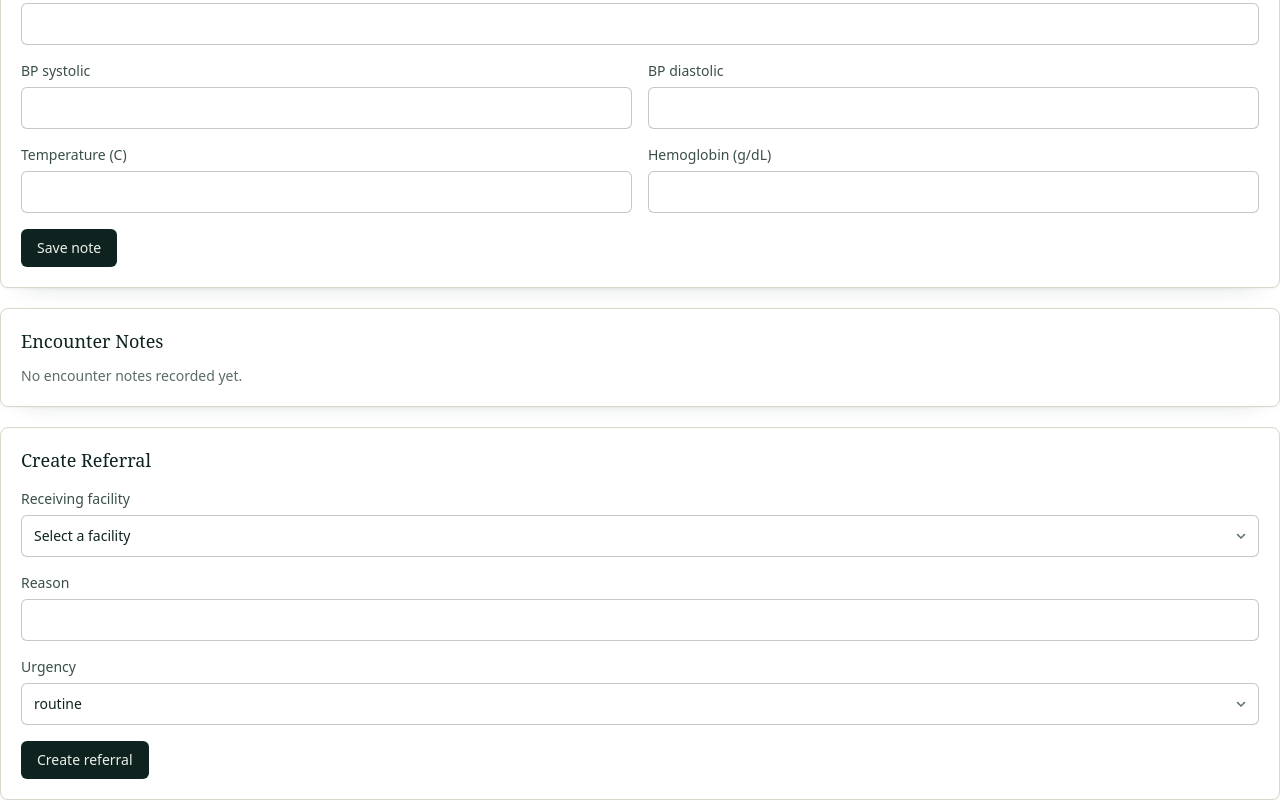
ClinicianEpisodeDetailPage › creates a referral with the clinician facility as fromFacilityId and shows the created status
The width and height of the screenshot is (1280, 800).
(page scrolled)
Select "District Referral Hospital" in the dropdown labelled "Receiving facility" at (640, 536), box [21,515,1259,557]
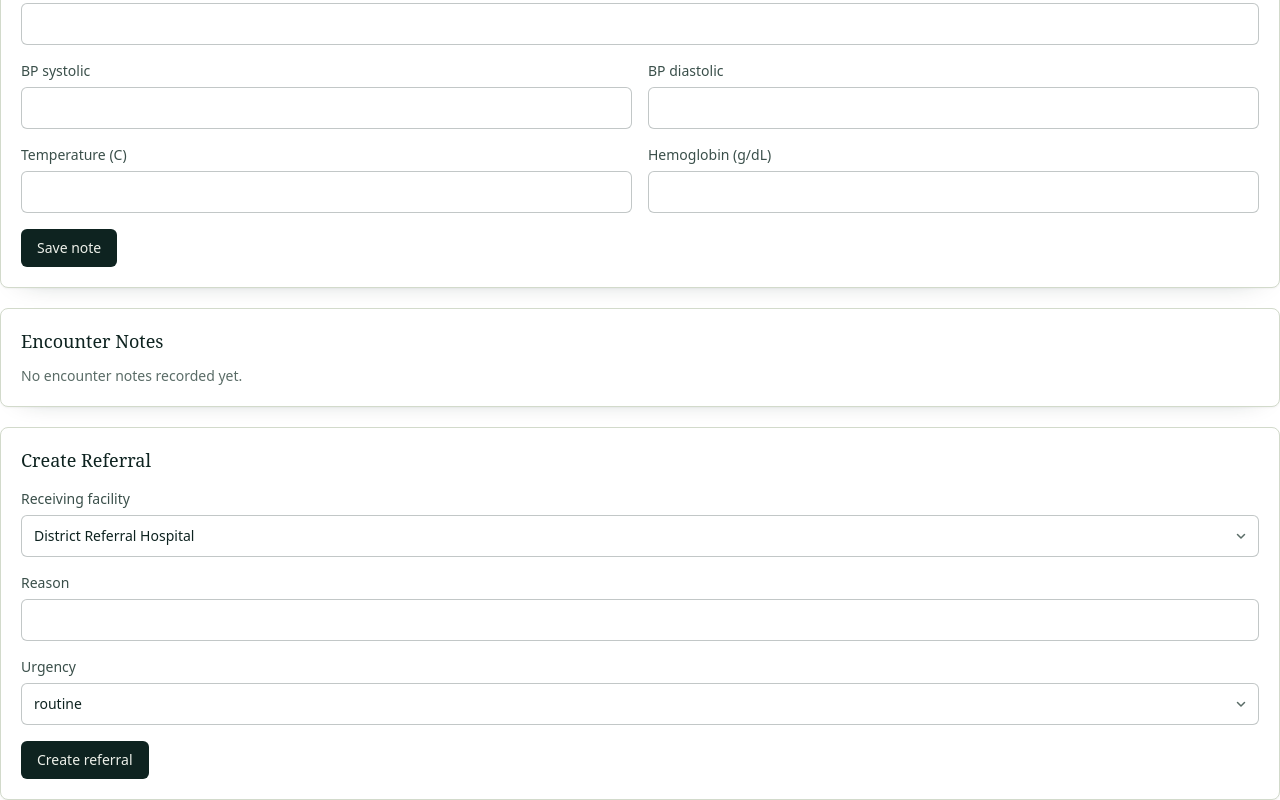
Type "Suspected preeclampsia" into the field labelled "Reason" at (640, 620), box [21,599,1259,641]
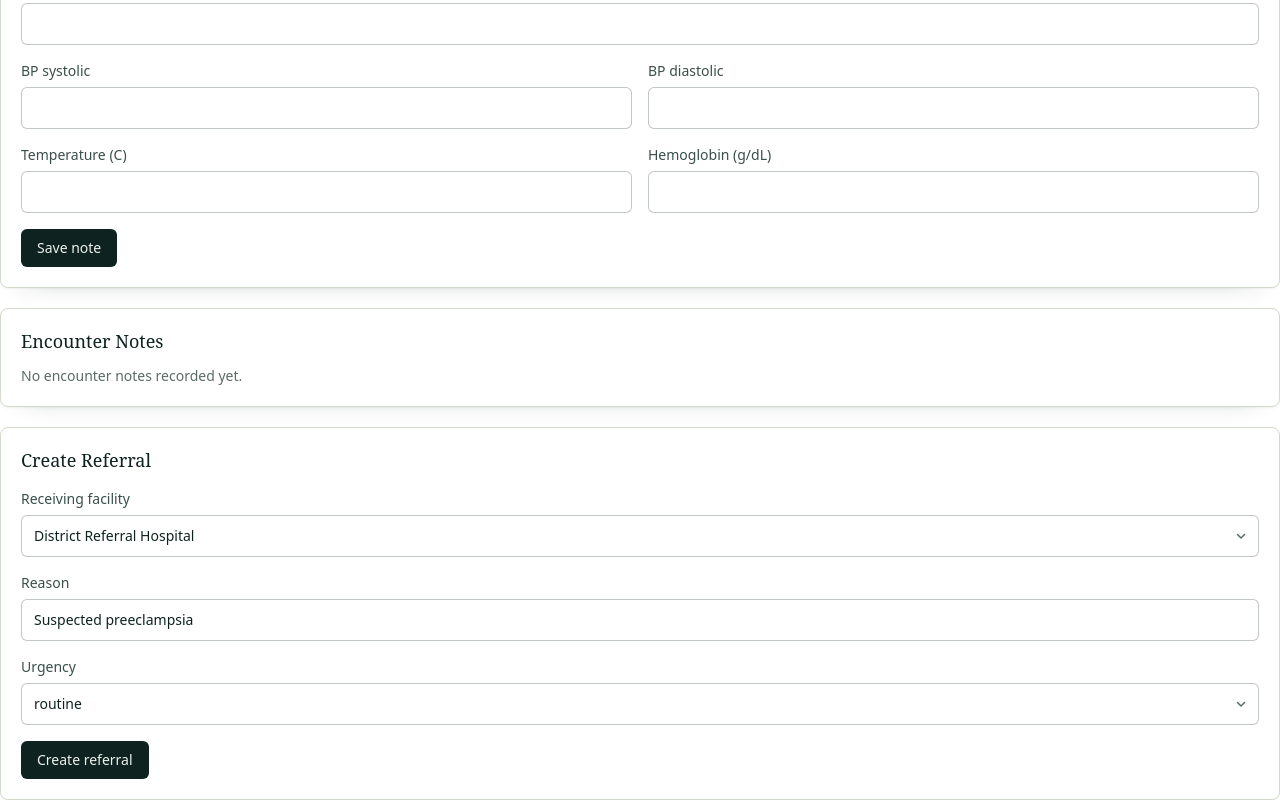
Select "urgent" in the dropdown labelled "Urgency" at (640, 704), box [21,683,1259,725]
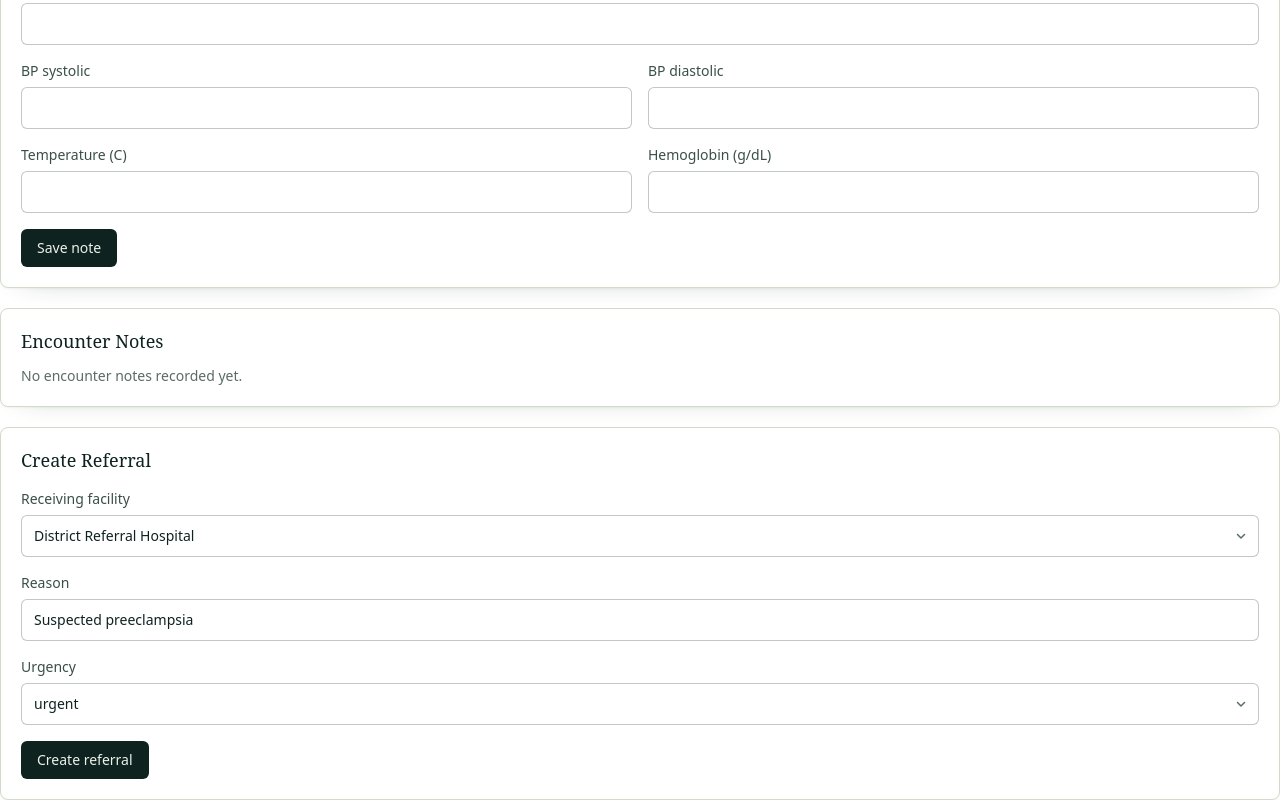
Click the button "Create referral" at (85, 760), box [21,741,149,779]
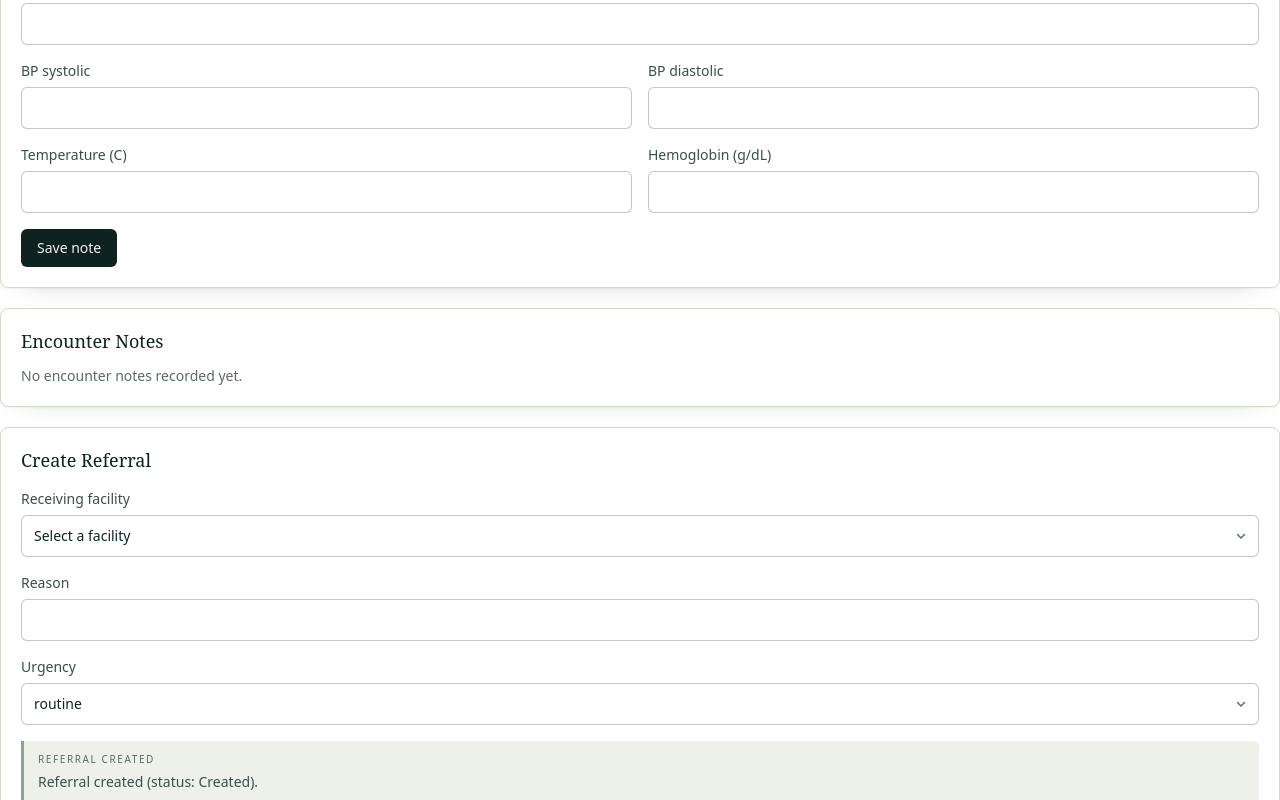
Check: the text "Referral created (status: Created)." is shown, box [38,772,258,791]
